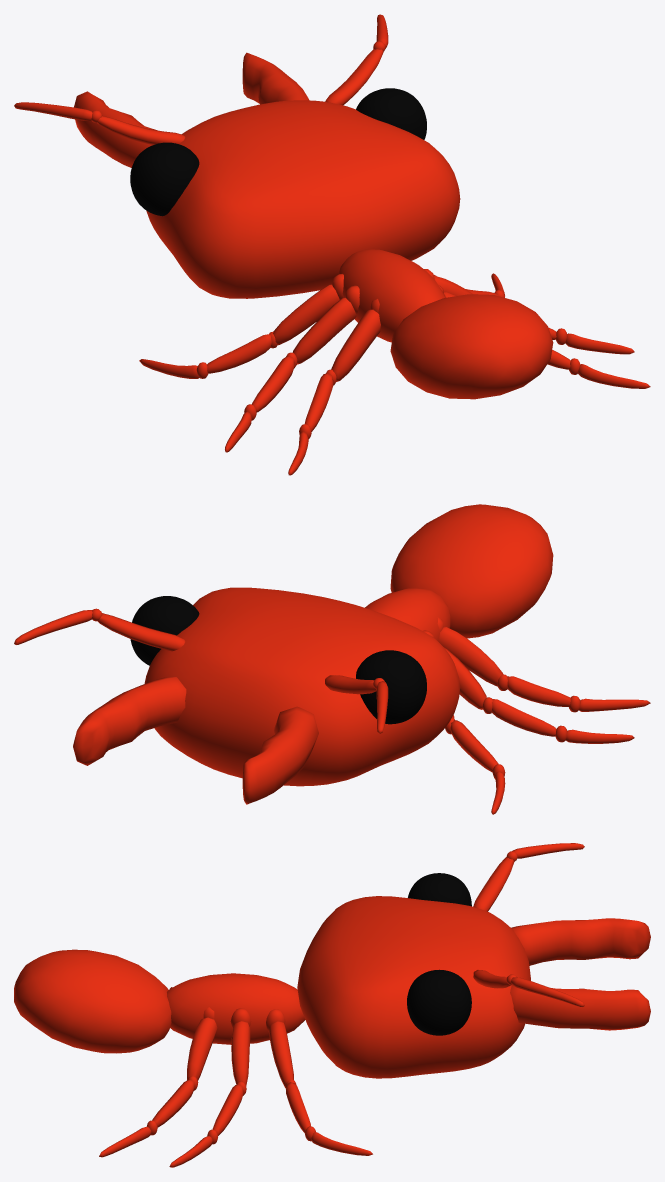
Rendered from Minion rouge.fbx.
The picture shows the model from 3 angles, top to bottom: view 1: azimuth 30°, elevation 25°; view 2: azimuth 150°, elevation 25°; view 3: azimuth 270°, elevation 25°; orthographic projection. The views are drawn at different scales.
Parts seen in each view (by area): view 1: Minion rouge; view 2: Minion rouge; view 3: Minion rouge.
Boxes of the visible parts, x1,y1,x2,y2 form: Minion rouge: (14, 14, 650, 475); Minion rouge: (14, 504, 650, 814); Minion rouge: (14, 843, 650, 1167).
Size of the model in its own units: 1.44 by 0.6348 by 2.18.
